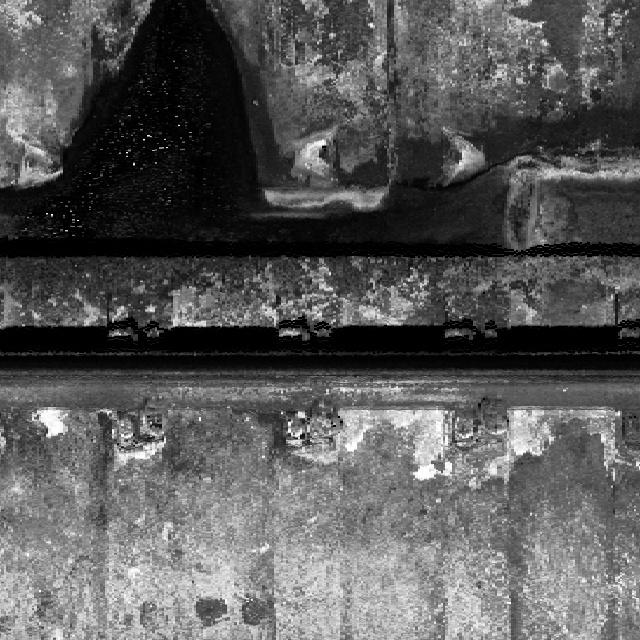leakage: (0, 0, 324, 251)
